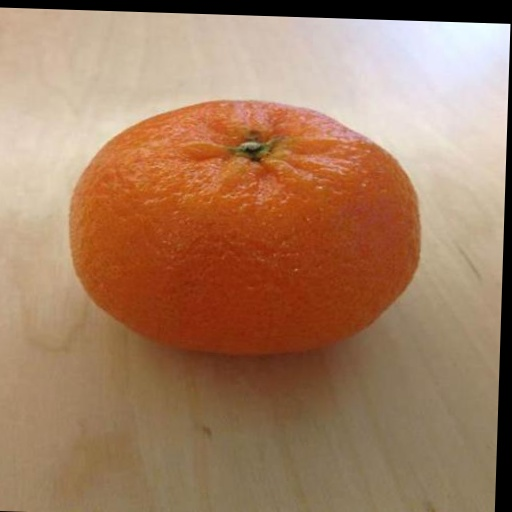fruit: (71, 101, 419, 353)
